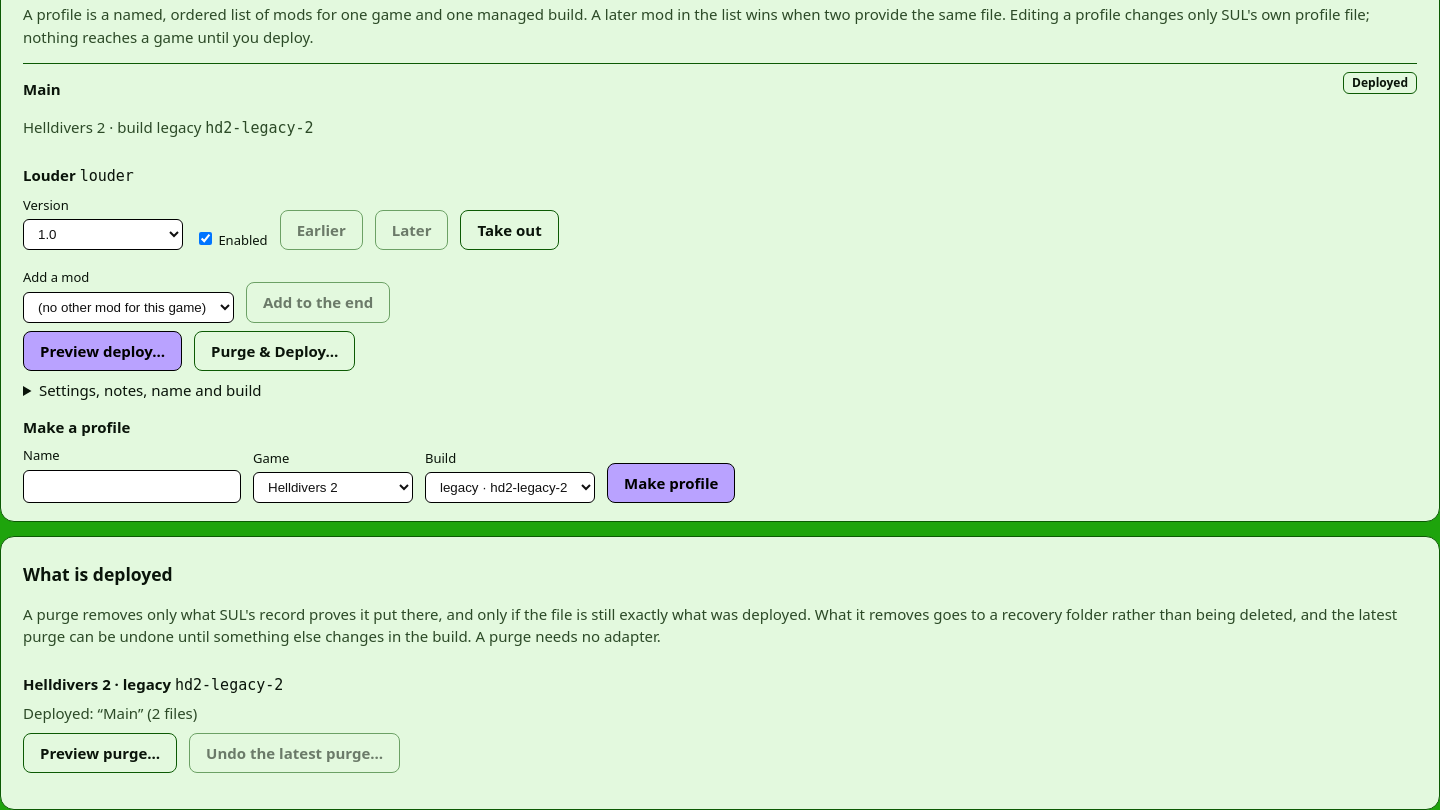
Test: deploy, purge and undo ask before they change anything › Preview purge lists each file with what would happen, flags files that would be left, and Purge sends one purge
This screenshot has width=1440, height=810.
Later steps or results of the test are not shown.
(page scrolled)
What coordinates should you click on to do the following:
click the button with aria-label "Preview a purge of hd2-legacy-2"
I would click on:
 (100, 753)
Its box is [23,733,177,773].
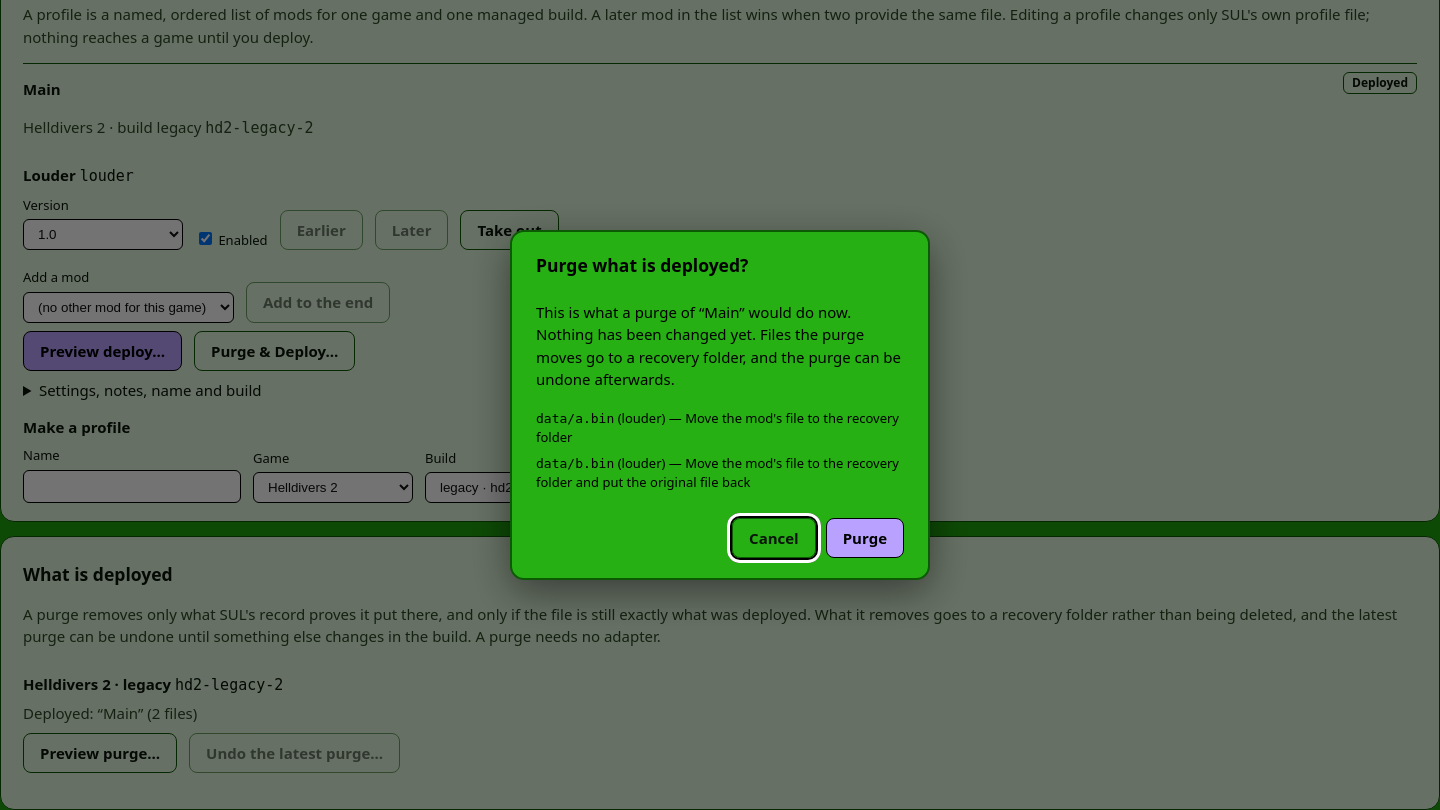
Now the dialog shows "This is what a purge of “Main” would do now. Nothing has been changed yet", box [510,230,930,580]
Now the list item that starts with "data/a.bin" reads "data/a.bin (louder) — Move the mod's file to the recovery folder", box [536,406,904,451]
